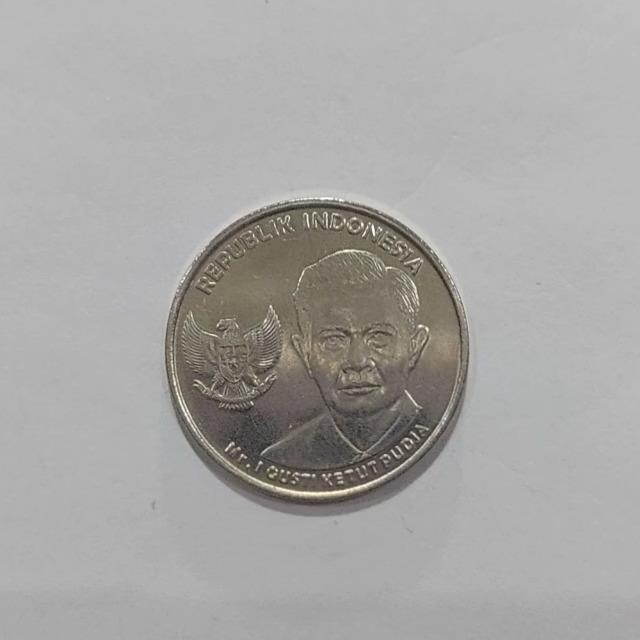Rp100: (163, 195, 471, 507), (253, 245, 433, 474)
